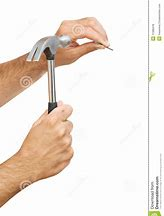hammer: (25, 32, 74, 173)
